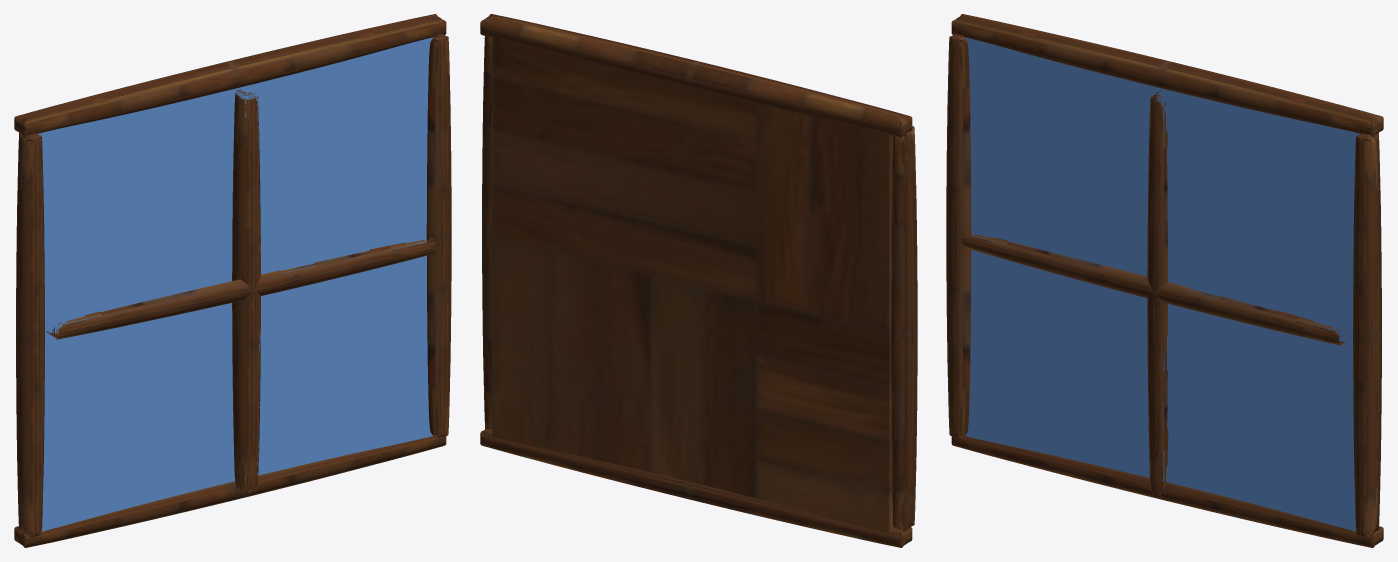
File: ventana.fbx
The picture shows the model from 3 angles, left to right: view 1: azimuth 30°, elevation 25°; view 2: azimuth 150°, elevation 25°; view 3: azimuth 330°, elevation 25°; orthographic projection.
Visible parts, largest first — view 1: Cube; view 2: Cube; view 3: Cube.
Boxes of the visible parts, x1=… form: Cube: x1=14, y1=14, x2=451, y2=547; Cube: x1=480, y1=14, x2=917, y2=547; Cube: x1=946, y1=14, x2=1383, y2=547.
Bounding box in the file's own units: 639 × 618 × 64.9.
Materials: 2 (1 with a texture image).
